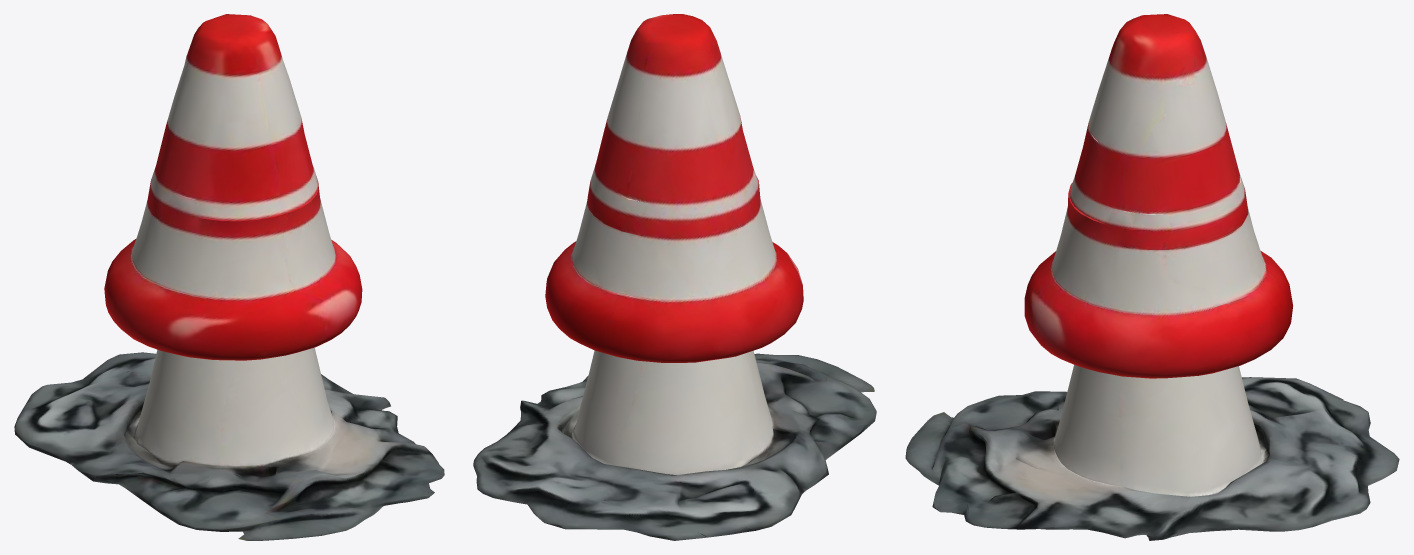
The model's file is m2MarkerBuoy.glb.
The picture shows the model from 3 angles, left to right: view 1: azimuth 30°, elevation 25°; view 2: azimuth 150°, elevation 25°; view 3: azimuth 270°, elevation 25°; orthographic projection. The views are drawn at different scales.
Parts seen in each view (by area): view 1: model; view 2: model; view 3: model.
Boxes of the visible parts, x1,y1,x2,y2 form: model: (14, 14, 444, 540); model: (473, 14, 876, 540); model: (905, 14, 1399, 540).
Size of the model in its own units: 1.46 by 1.85 by 1.89.
1 material, 1 textured.
